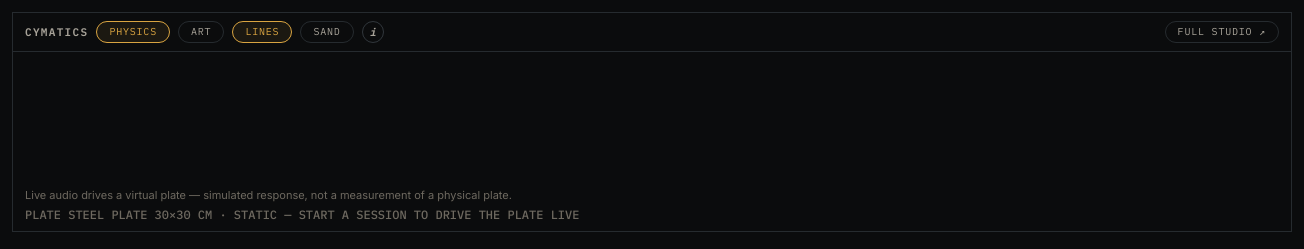
Test case: StudioCymatics — LINES/SAND toggle › switching to SAND flips the mode, keeps honesty labels, adds the sand note
Click the button with test id "cymatics-render-sand": [327, 32] box x1=300 y1=21 x2=354 y2=43
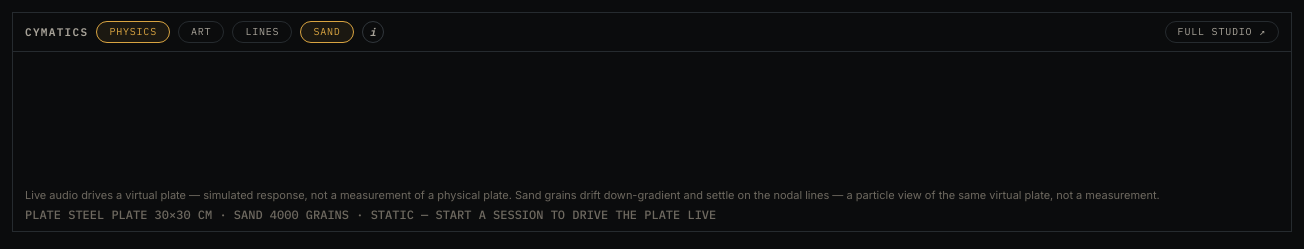
Expected: the text "drives a virtual plate" is shown, x1=25 y1=188 x2=512 y2=202
Now the text "settle on the nodal lines" is shown, box x1=512 y1=188 x2=1160 y2=202
Now the text "SAND 4000 GRAINS" is shown, box x1=212 y1=207 x2=349 y2=222
